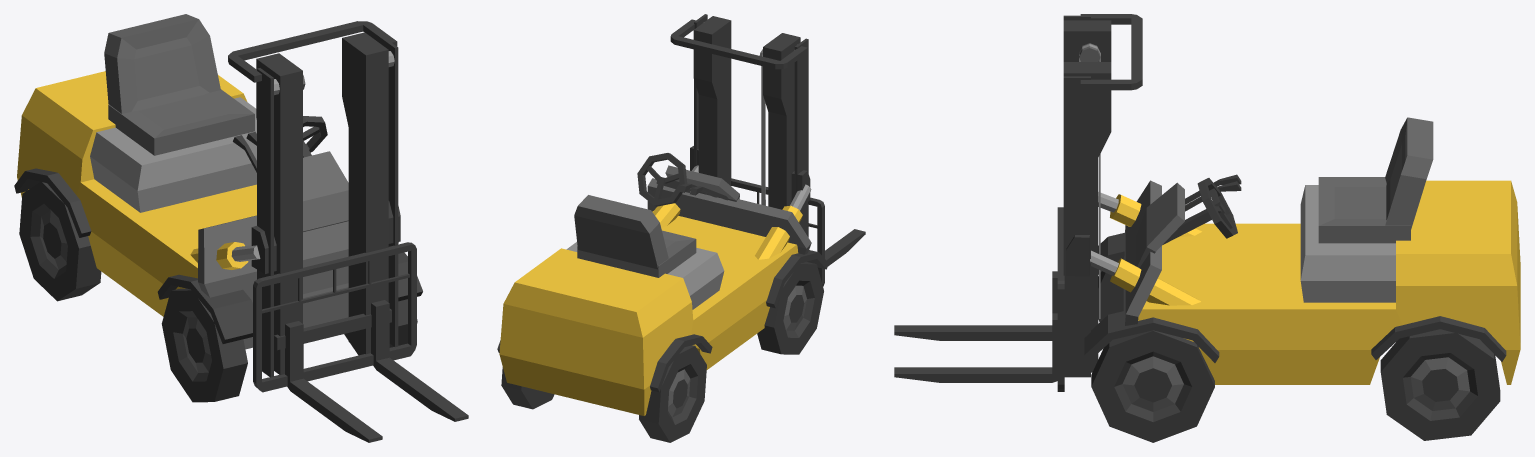
The model's file is Carrito de carga.fbx.
3 views of the same model, side by side, from view 1: azimuth 30°, elevation 25°; view 2: azimuth 150°, elevation 25°; view 3: azimuth 270°, elevation 25° (orthographic). The views are drawn at different scales.
Visible parts, largest first — view 1: Cylinder.002; view 2: Cylinder.002; view 3: Cylinder.002.
Boxes of the visible parts, x1,y1,x2,y2 form: Cylinder.002: [14, 14, 468, 442]; Cylinder.002: [497, 14, 865, 442]; Cylinder.002: [894, 14, 1520, 442].
Size of the model in its own units: 84.61 by 142 by 231.
